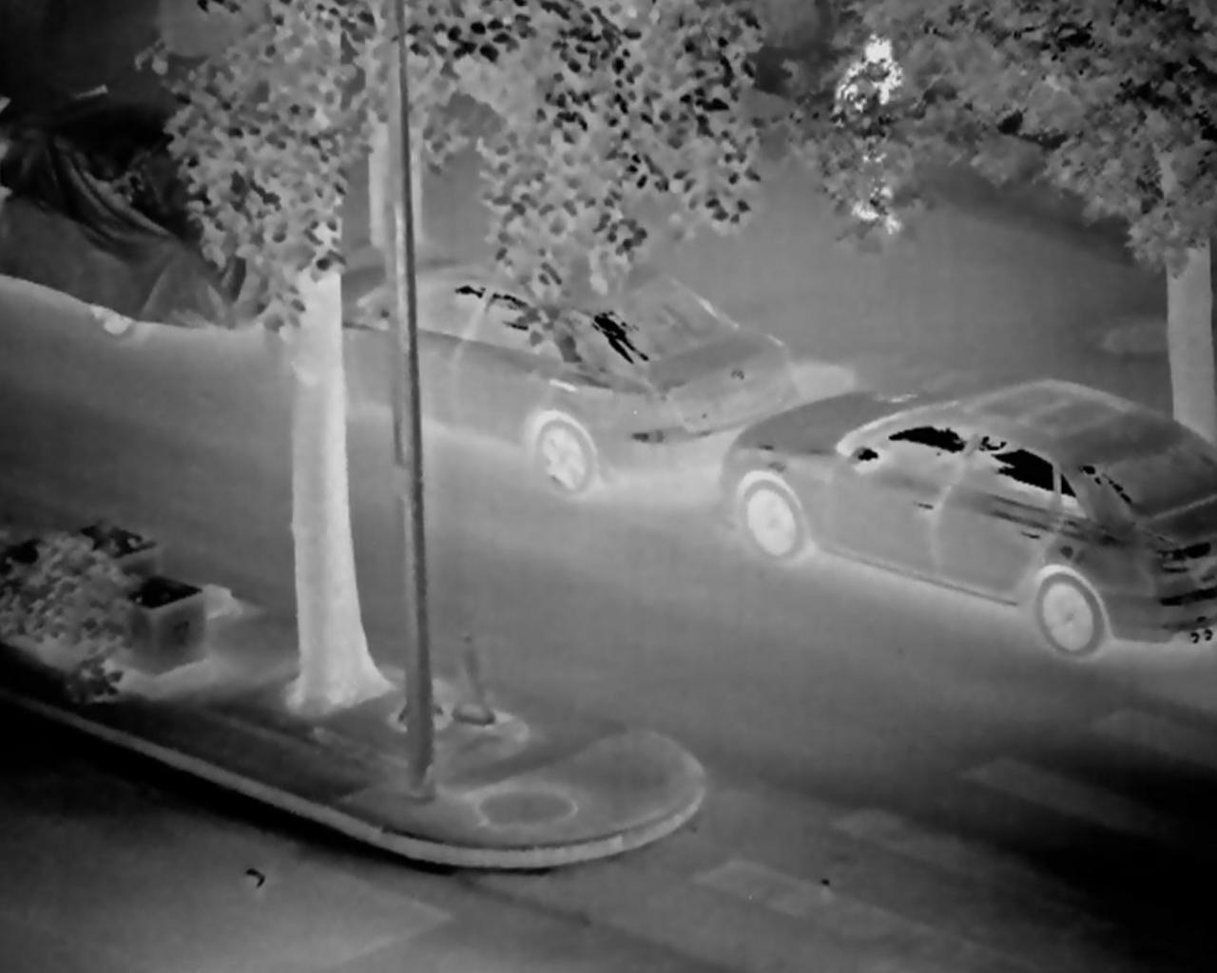person: (830, 33, 915, 232)
